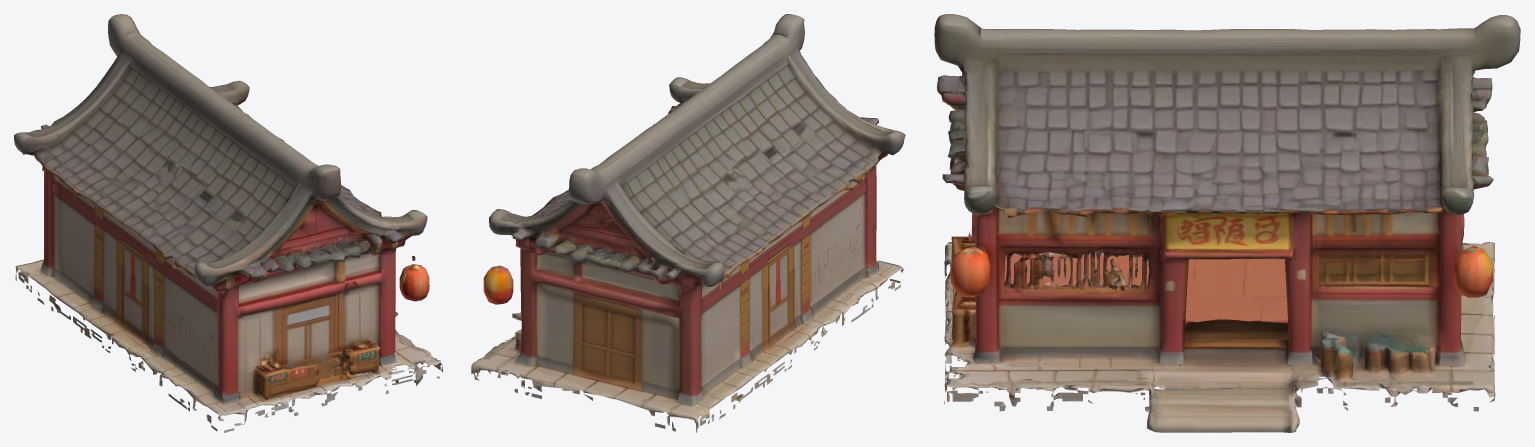
File: bq_teashop.glb
The picture shows the model from 3 angles, left to right: view 1: azimuth 30°, elevation 25°; view 2: azimuth 150°, elevation 25°; view 3: azimuth 270°, elevation 25°; orthographic projection. The views are drawn at different scales.
Size of the model in its own units: 1.42 by 1.2 by 2.
1 material, 1 textured.
